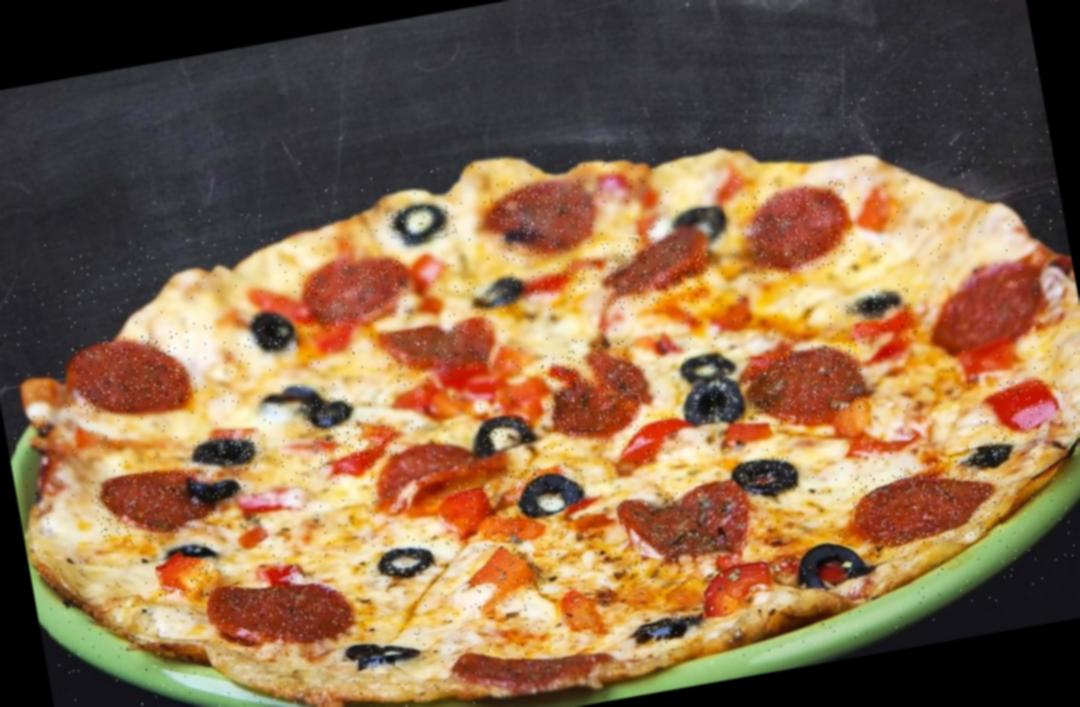Olives: (505, 457, 588, 519), (800, 526, 873, 592), (256, 377, 326, 430), (196, 427, 266, 478), (350, 626, 419, 673), (387, 201, 458, 246), (180, 464, 245, 510), (240, 310, 298, 358), (470, 270, 528, 316), (691, 376, 743, 424), (375, 540, 436, 580), (303, 393, 360, 435), (675, 204, 729, 248), (738, 454, 796, 493), (681, 347, 729, 391), (846, 288, 912, 320), (169, 530, 223, 564), (480, 412, 529, 448), (639, 616, 697, 642), (967, 440, 1022, 465)
Pepperoni: (850, 452, 1004, 556), (447, 618, 622, 698), (619, 478, 758, 578), (208, 568, 347, 664), (742, 176, 860, 282), (70, 326, 200, 420), (92, 461, 219, 550), (744, 340, 869, 429), (538, 340, 645, 440), (932, 263, 1045, 353), (602, 223, 716, 312), (486, 174, 596, 264), (383, 314, 508, 388), (301, 254, 414, 335), (364, 437, 474, 519)
Pizza: (0, 59, 1080, 707)
Tomatoes: (975, 372, 1065, 445), (690, 554, 785, 617), (601, 411, 690, 471), (314, 422, 402, 474), (470, 540, 540, 604), (559, 575, 619, 638), (405, 250, 459, 318), (529, 256, 601, 300), (446, 477, 502, 530), (153, 556, 218, 600), (481, 508, 542, 544), (720, 413, 775, 452), (849, 313, 917, 343)
